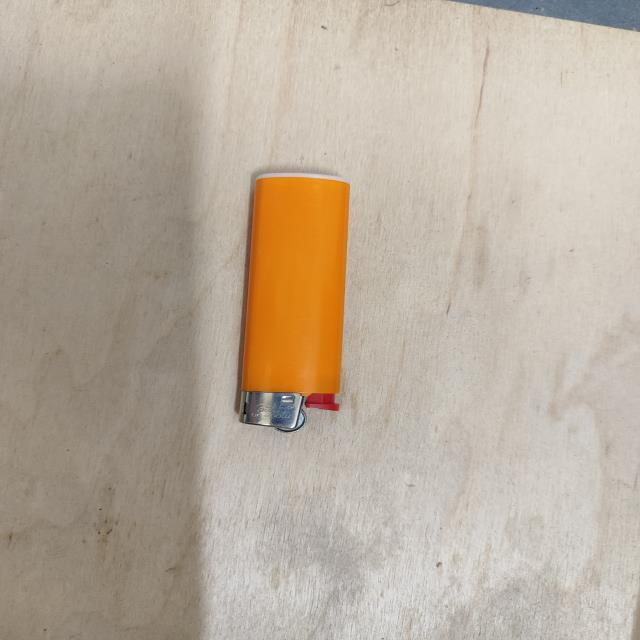lighter: (240, 173, 349, 431)
